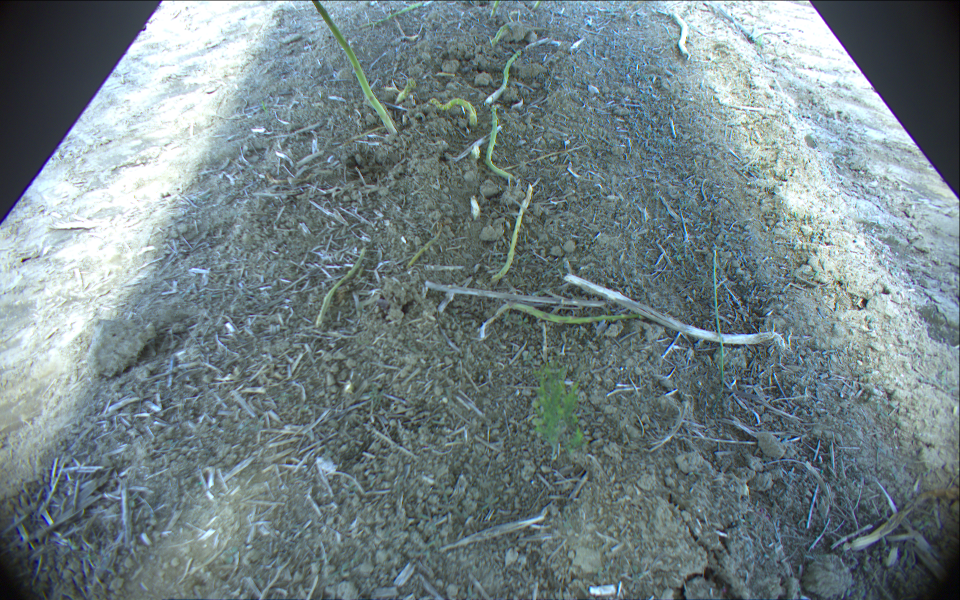aspa: (310, 1, 397, 137), (476, 301, 643, 337), (312, 246, 366, 329), (492, 182, 534, 282), (483, 105, 512, 180), (484, 50, 520, 106), (404, 222, 442, 271), (428, 96, 477, 128), (367, 1, 425, 26), (667, 11, 693, 59), (490, 22, 509, 50), (397, 77, 415, 106), (472, 142, 480, 164), (491, 1, 498, 21), (531, 1, 543, 11)
